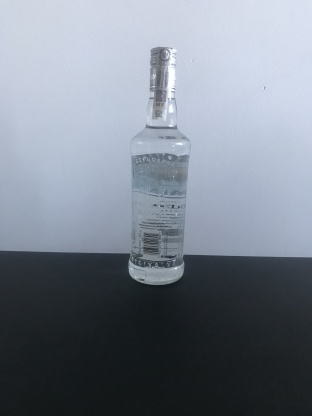nakretka: (147, 43, 179, 95)
